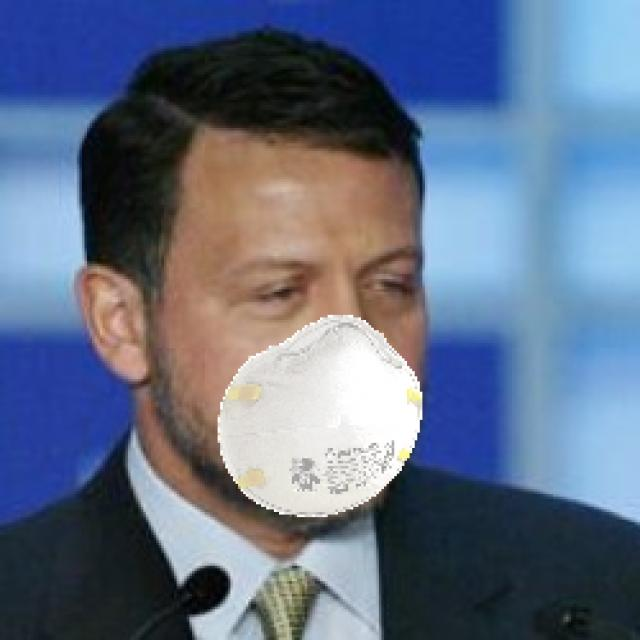mask: (222, 314, 430, 532)
